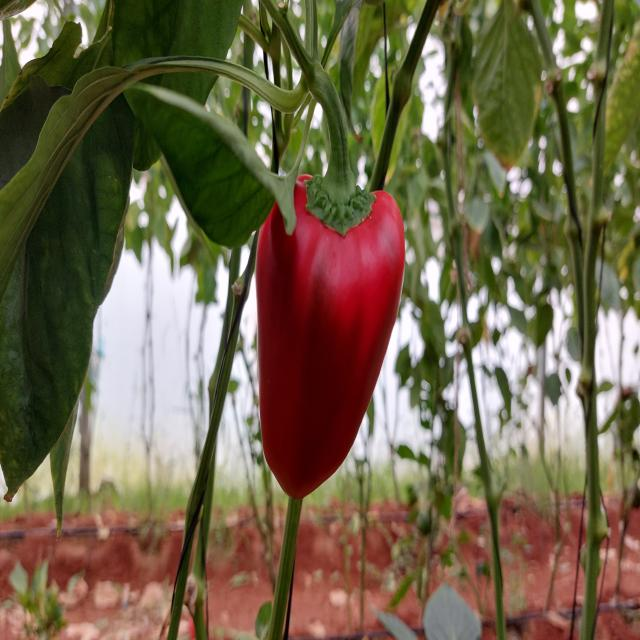Red-Ready-to-Harvest: (263, 165, 417, 501)
